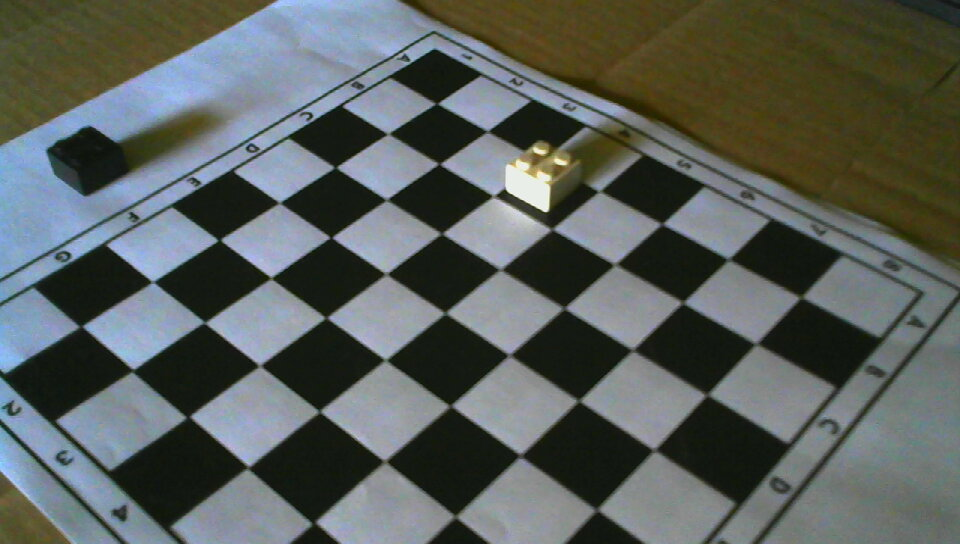bp: (45, 125, 127, 195)
wp: (505, 139, 583, 212)
